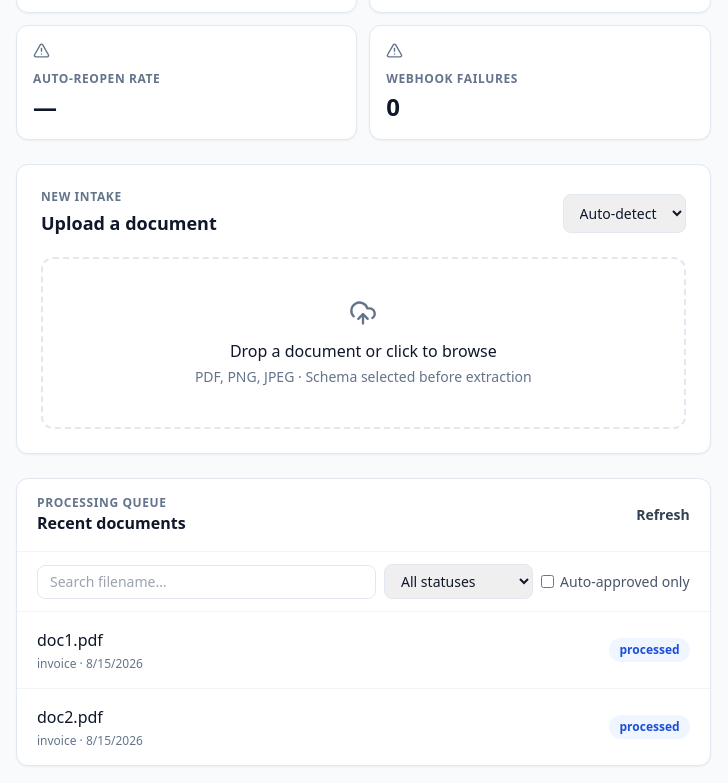
auto-approve surfacing › shows 'No documents match your filters' when auto-approved-only filter matches no docs
(page scrolled)
Expected: the text "doc1.pdf" is shown, x1=37 y1=629 x2=103 y2=651
Expected: the text "doc2.pdf" is shown, x1=37 y1=706 x2=103 y2=728
Click the checkbox.
click(548, 582)  # box x1=541 y1=575 x2=554 y2=588
(page scrolled)
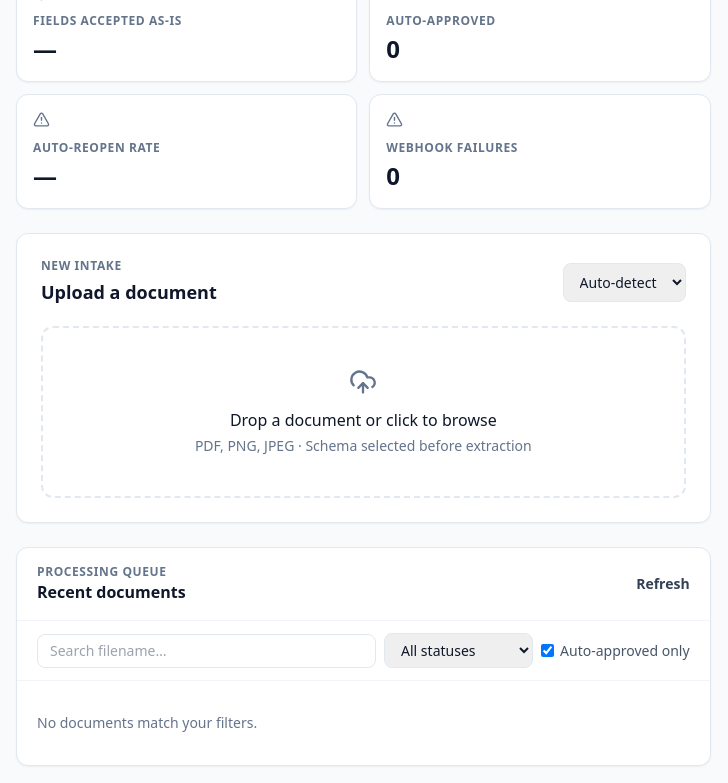
Now the text "No documents match your filters." is shown, box x1=37 y1=713 x2=257 y2=732
Now the button "doc1.pdf" is gone
Now the button "doc2.pdf" is gone
